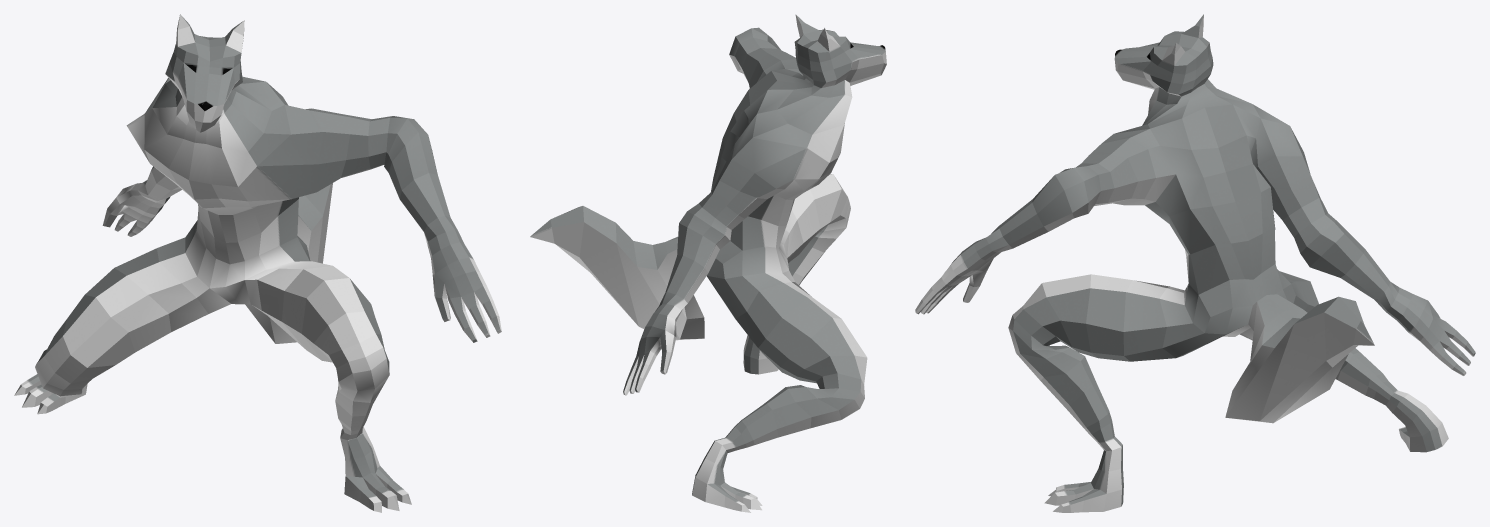
File: WolfAttack(28).obj
3 views of the same model, side by side, from view 1: azimuth 30°, elevation 25°; view 2: azimuth 150°, elevation 25°; view 3: azimuth 270°, elevation 25° (orthographic). The views are drawn at different scales.
Visible parts, largest first — view 1: Box001; view 2: Box001; view 3: Box001.
Part boxes in pixels (x1=…): Box001: x1=14, y1=14, x2=501, y2=512; Box001: x1=530, y1=14, x2=886, y2=512; Box001: x1=915, y1=14, x2=1475, y2=512.
Size of the model in its own units: 90.59 by 118 by 139.
